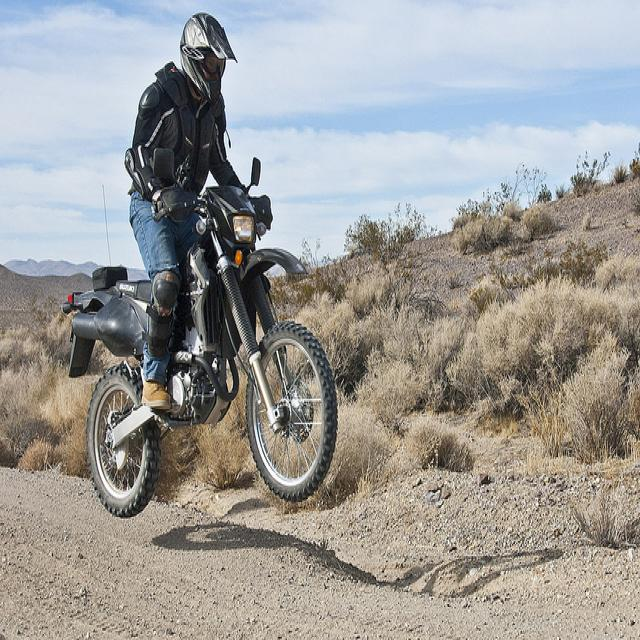motor: (61, 151, 338, 522)
